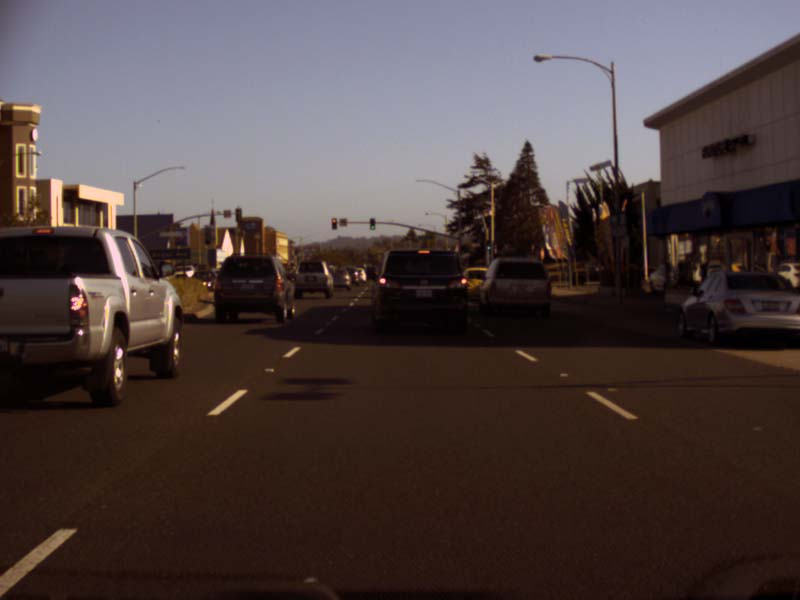Green: (369, 219, 375, 229), (486, 240, 490, 250)
Red: (331, 217, 336, 228)
